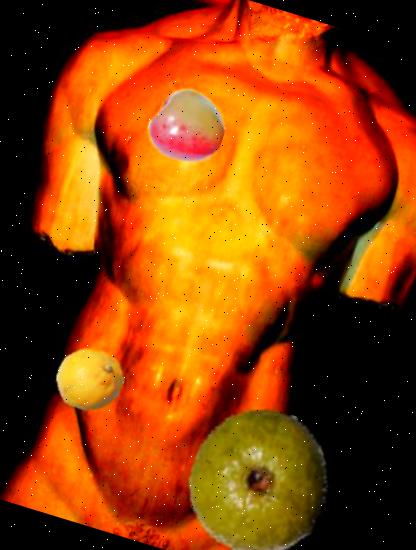Cherry: (140, 78, 235, 172)
Guava: (165, 388, 352, 550)
Lemon: (48, 338, 132, 422)
